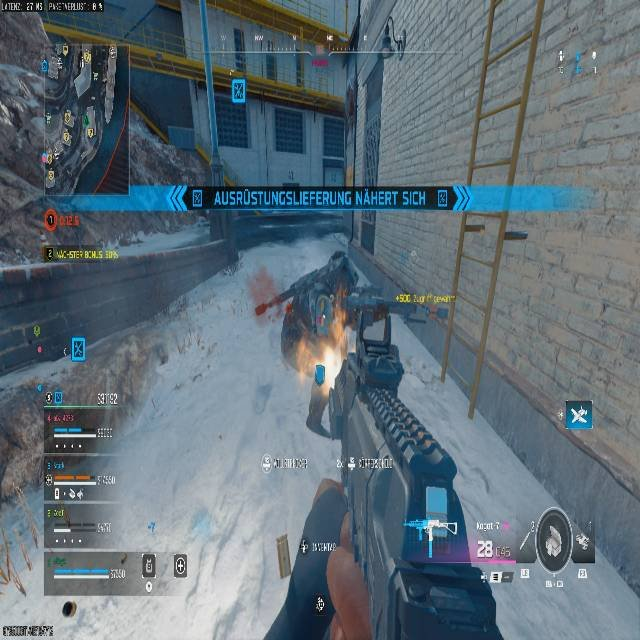player: (248, 237, 357, 430)
